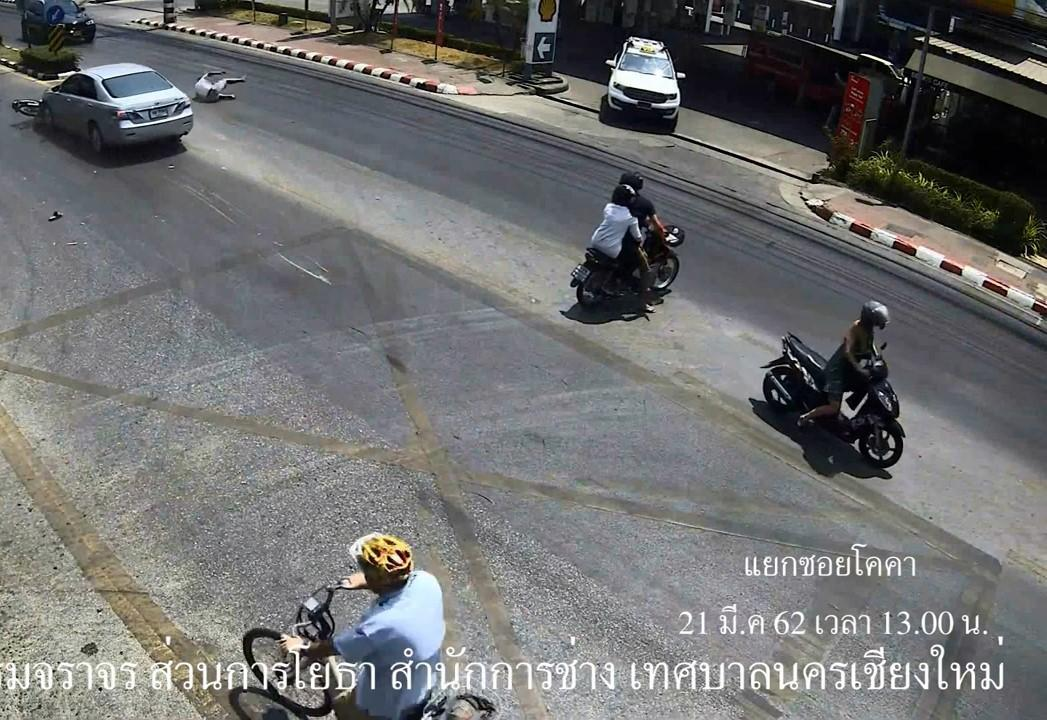accident: (189, 69, 250, 105)
